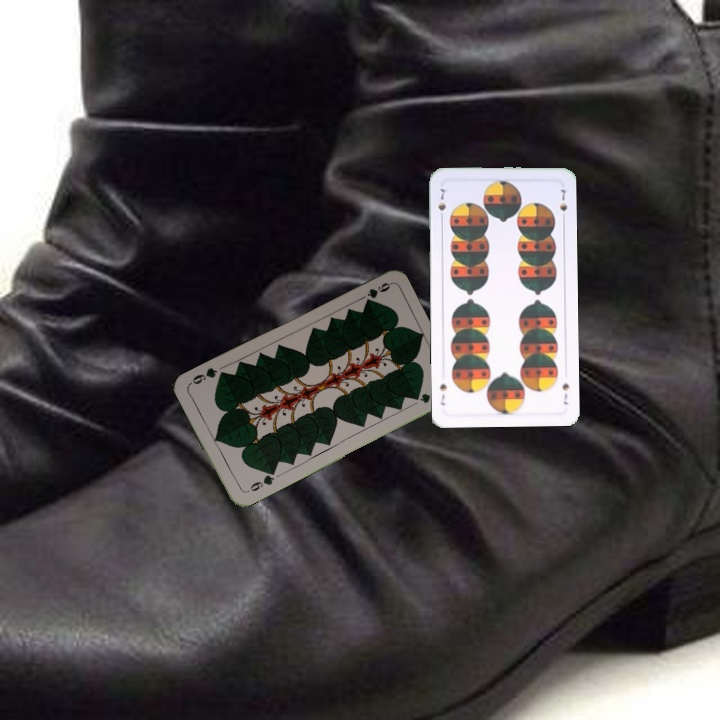G9: (241, 468, 277, 496), (361, 278, 393, 305)
S7: (434, 184, 448, 223), (558, 378, 571, 407)
